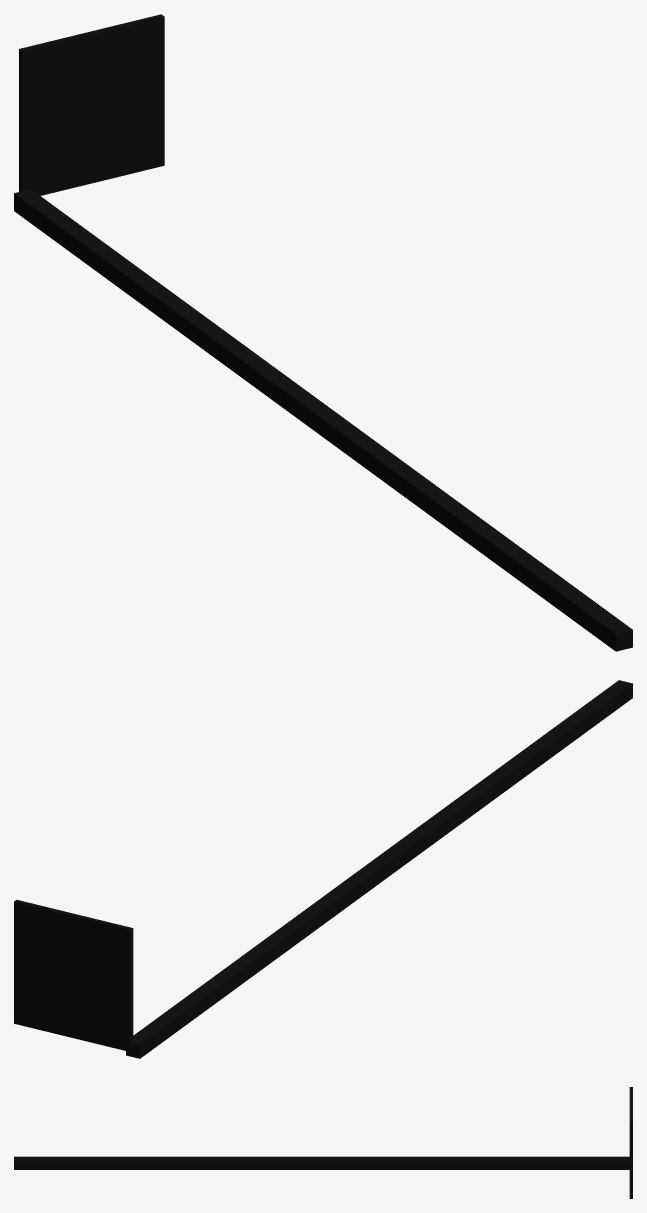
Rendered from post_se.obj.
3 views of the same model, one above another, from view 1: azimuth 30°, elevation 25°; view 2: azimuth 150°, elevation 25°; view 3: azimuth 270°, elevation 25° (orthographic). The views are drawn at different scales.
Bounding box in the file's own units: 1.06 × 1.06 × 7.39.
1 material, 1 textured.
